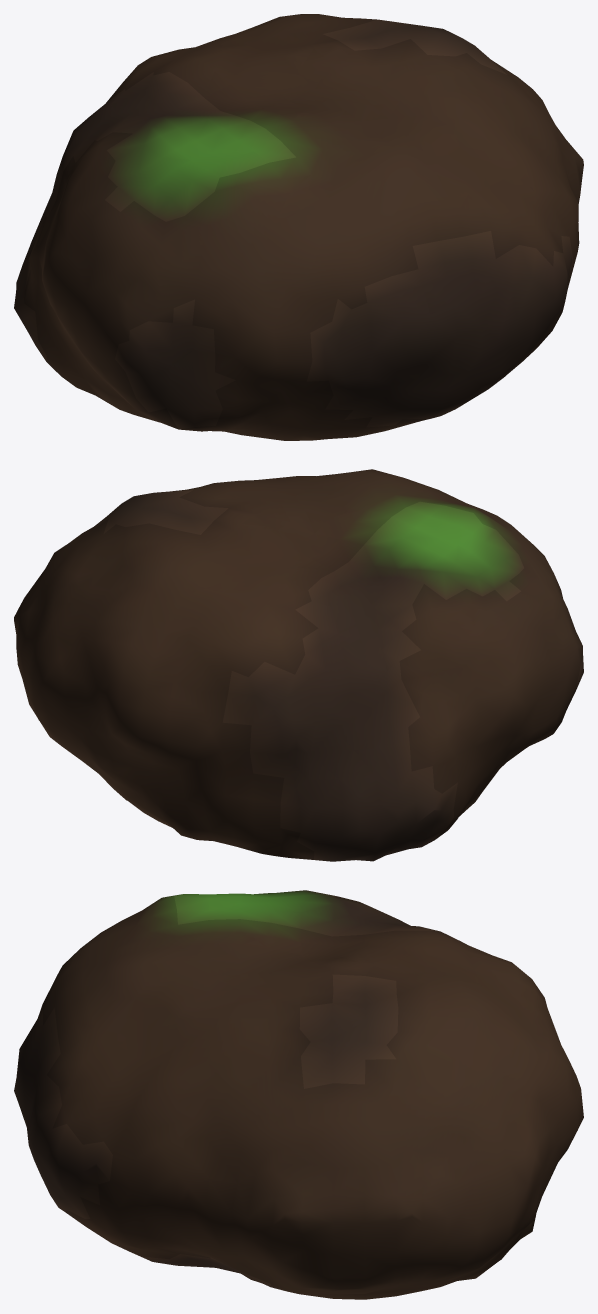
The model's file is canopy_soil_clod_a.glb.
3 renders of one model, top to bottom at view 1: azimuth 30°, elevation 25°; view 2: azimuth 150°, elevation 25°; view 3: azimuth 270°, elevation 25°, orthographic. The views are drawn at different scales.
Visible parts, largest first — view 1: canopy_soil_clod_a; view 2: canopy_soil_clod_a; view 3: canopy_soil_clod_a.
Part boxes in pixels (x1=…): canopy_soil_clod_a: x1=14, y1=14, x2=583, y2=440; canopy_soil_clod_a: x1=14, y1=469, x2=583, y2=861; canopy_soil_clod_a: x1=14, y1=890, x2=583, y2=1299.
Size of the model in its own units: 3.86 by 2.02 by 3.66.
